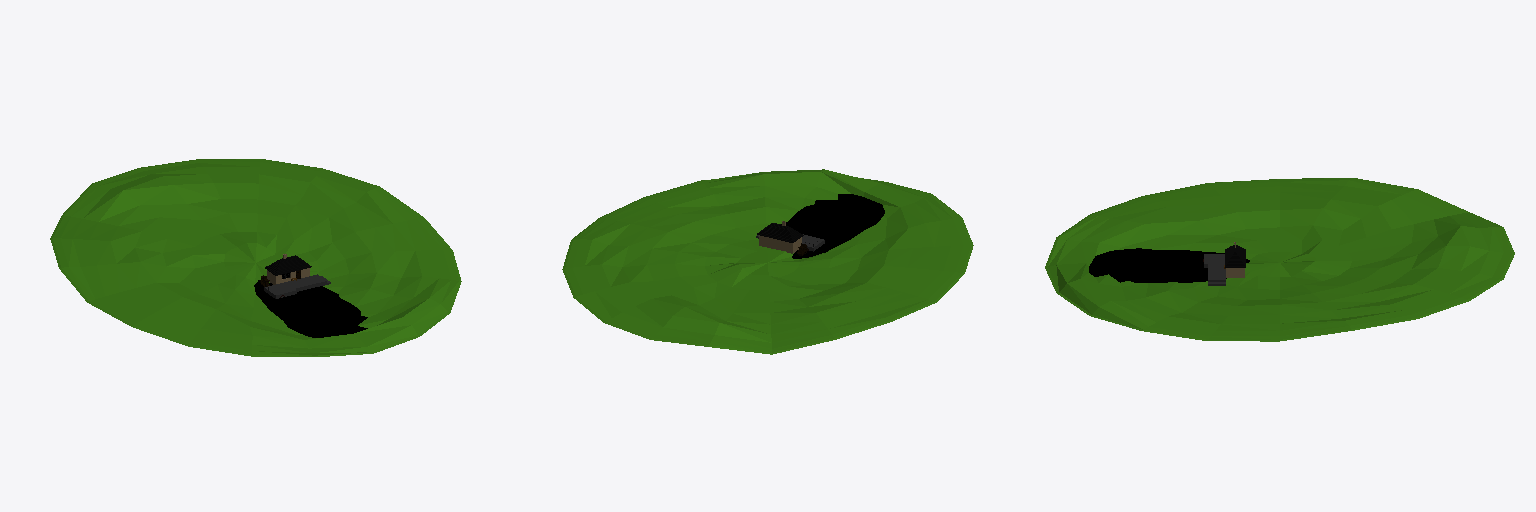
3 renders of one model, left to right at view 1: azimuth 30°, elevation 25°; view 2: azimuth 150°, elevation 25°; view 3: azimuth 270°, elevation 25°, orthographic.
Parts seen in each view (by area): view 1: hill, water, housebase, polySurface1; view 2: hill, water, housebase; view 3: hill, water, housebase, polySurface1.
Boxes of the visible parts, <box> form: hill: <box>50,159,461,356</box>; water: <box>254,280,367,337</box>; housebase: <box>265,254,311,284</box>; polySurface1: <box>264,274,330,298</box>; hill: <box>562,169,973,354</box>; water: <box>781,194,884,258</box>; housebase: <box>757,221,803,253</box>; hill: <box>1045,178,1514,341</box>; water: <box>1089,248,1249,282</box>; housebase: <box>1225,242,1245,277</box>; polySurface1: <box>1204,254,1225,285</box>.
Bounding box in the file's own units: 60.89 × 5.69 × 73.43.